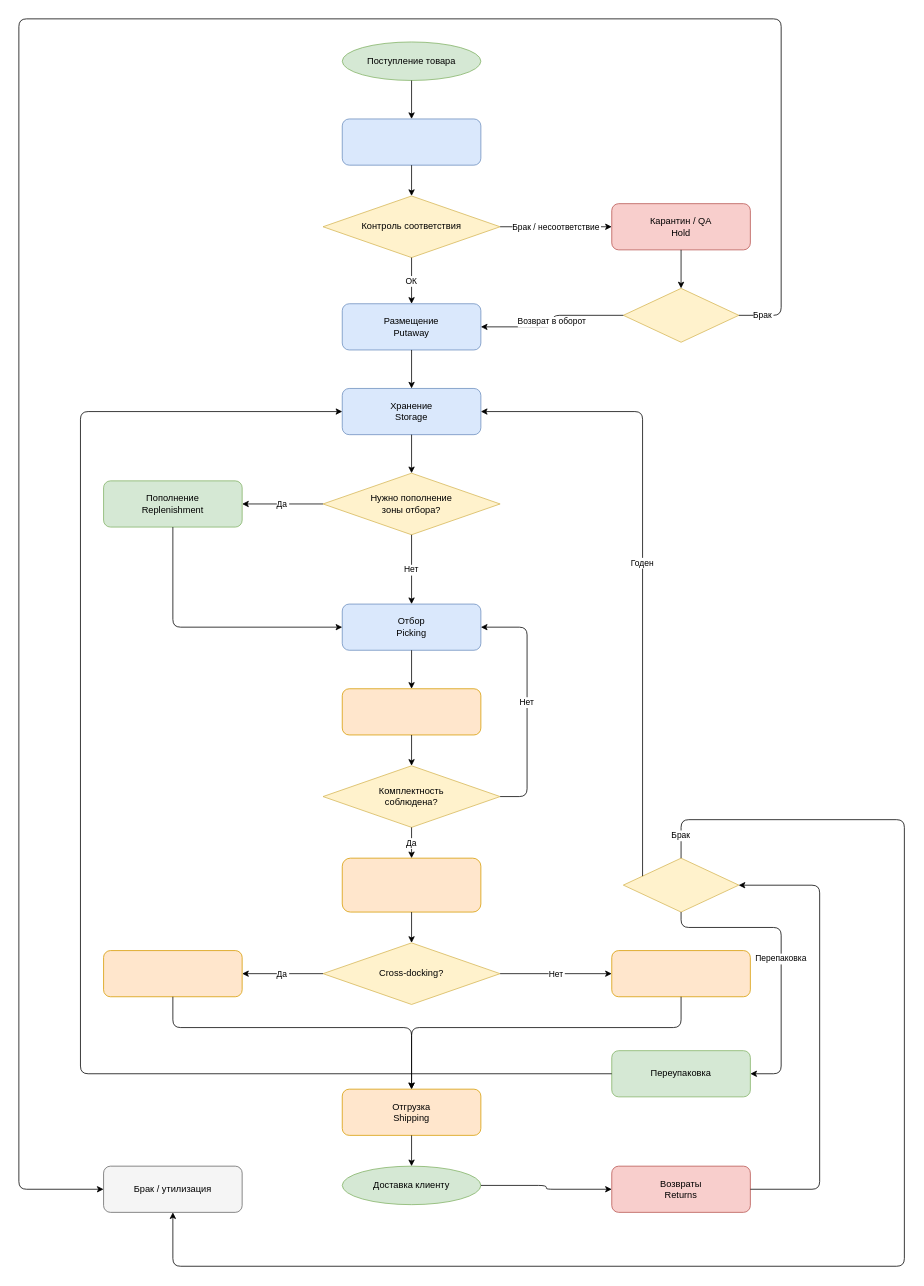
This 924x1286 diagram has some shape labels left out. Each missing label, with the box of its shape:
Консолидация и подготовка к отгрузке: (341, 857, 481, 912)
Приёмка Receiving: (341, 118, 481, 165)
Распределение по докам: (611, 950, 750, 997)
Решение после проверки: (623, 288, 739, 342)
Состояние товара: (623, 857, 739, 912)
Сразу на отгрузку: (103, 950, 242, 997)
Упаковка Packing: (341, 688, 481, 735)
